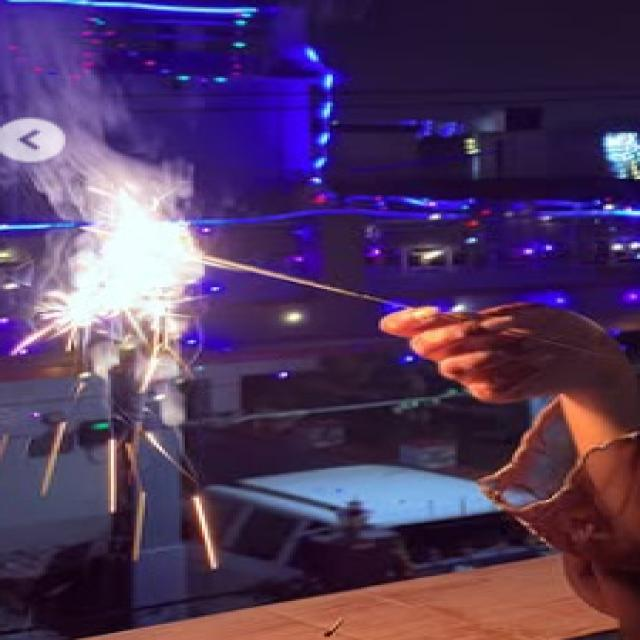fire: (38, 186, 203, 328)
